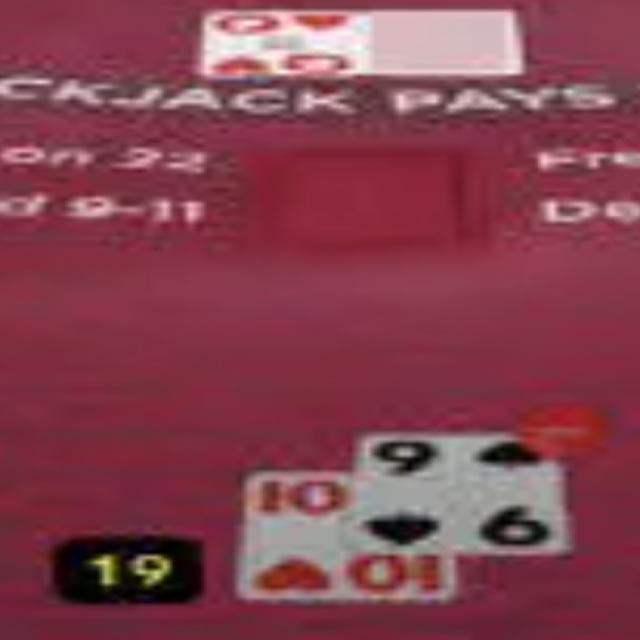Card-10: (240, 469, 457, 601)
Card-9: (345, 432, 566, 555)
